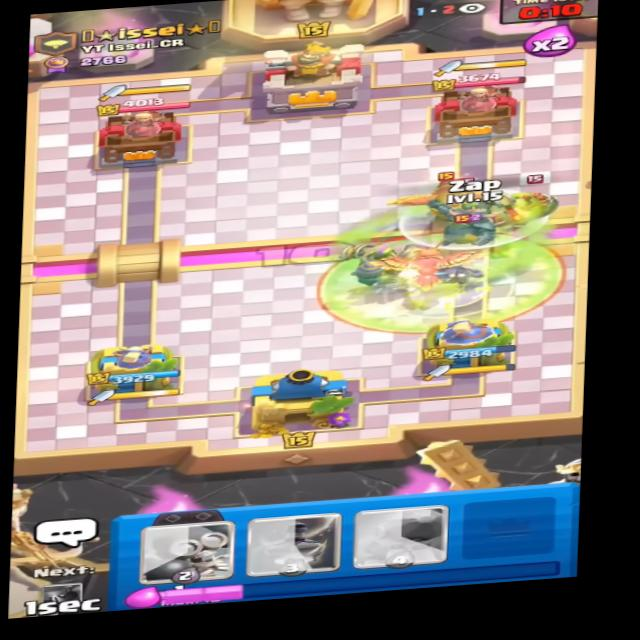goblin-curse: (314, 228, 566, 340)
goblin-demolisher: (491, 170, 567, 226)
pekka: (419, 203, 501, 252)
phoenix: (382, 162, 484, 216)
